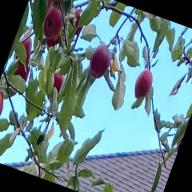Apples: (40, 6, 68, 40), (130, 68, 156, 101), (11, 33, 36, 64), (66, 7, 88, 37), (10, 59, 32, 88), (48, 68, 66, 92), (0, 88, 8, 132), (47, 0, 73, 10), (44, 33, 60, 49), (174, 134, 184, 152)
